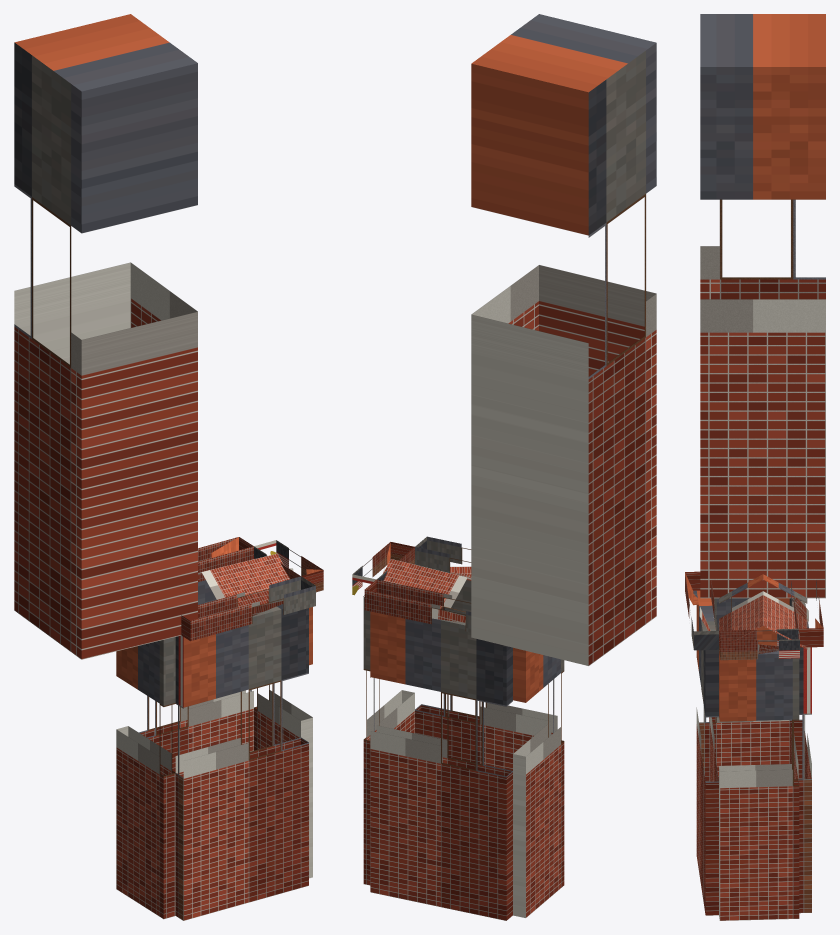
3 renders of one model, left to right at view 1: azimuth 30°, elevation 25°; view 2: azimuth 150°, elevation 25°; view 3: azimuth 270°, elevation 25°, orthographic. The views are drawn at different scales.
Parts seen in each view (by area): view 1: 1106964393__chimney_0_xb, 1106964393__wall_1_xb, 1106964393__wall_2_xb, 1106964393__wall_3_xb, 1106964393__cornice_1, 1106964393__wall_0_xb, 1106964393_roof_-1_xb, 1106964393__cornice_3, 1106964393__cornice_0; view 2: 1106964393__chimney_0_xb, 1106964393__wall_3_xb, 1106964393__wall_2_xb, 1106964393__wall_1_xb, 1106964393__wall_0_xb, 1106964393__cornice_3, 1106964393_roof_1_xb, 1106964393__cornice_1, 1106964393__cornice_0; view 3: 1106964393__chimney_0_xb, 1106964393__wall_0_xb, 1106964393__wall_1_xb, 1106964393__wall_2_xb, 1106964393__wall_3_xb, 1106964393__cornice_0, 1106964393_roof_-1_xb, 1106964393_roof_1_xb, 1106964393__cornice_1, 1106964393__cornice_3.
Part boxes in pixels (x1=…): 1106964393__chimney_0_xb: x1=14, y1=14, x2=197, y2=659; 1106964393__wall_1_xb: x1=175, y1=604, x2=308, y2=920; 1106964393__wall_2_xb: x1=116, y1=637, x2=175, y2=919; 1106964393__wall_3_xb: x1=139, y1=580, x2=253, y2=772; 1106964393__cornice_1: x1=181, y1=576, x2=315, y2=641; 1106964393__wall_0_xb: x1=254, y1=607, x2=312, y2=878; 1106964393_roof_-1_xb: x1=201, y1=553, x2=289, y2=607; 1106964393__cornice_3: x1=198, y1=537, x2=253, y2=581; 1106964393__cornice_0: x1=254, y1=540, x2=323, y2=592; 1106964393__chimney_0_xb: x1=471, y1=14, x2=656, y2=665; 1106964393__wall_3_xb: x1=370, y1=611, x2=512, y2=920; 1106964393__wall_2_xb: x1=513, y1=647, x2=564, y2=917; 1106964393__wall_1_xb: x1=415, y1=572, x2=557, y2=770; 1106964393__wall_0_xb: x1=363, y1=596, x2=414, y2=885; 1106964393__cornice_3: x1=364, y1=579, x2=471, y2=632; 1106964393_roof_1_xb: x1=383, y1=559, x2=467, y2=612; 1106964393__cornice_1: x1=415, y1=536, x2=471, y2=578; 1106964393__cornice_0: x1=352, y1=542, x2=414, y2=596; 1106964393__chimney_0_xb: x1=700, y1=14, x2=825, y2=598; 1106964393__wall_0_xb: x1=719, y1=651, x2=799, y2=920; 1106964393__wall_1_xb: x1=696, y1=590, x2=718, y2=915; 1106964393__wall_2_xb: x1=709, y1=598, x2=789, y2=780; 1106964393__wall_3_xb: x1=789, y1=598, x2=811, y2=913; 1106964393__cornice_0: x1=719, y1=628, x2=799, y2=660; 1106964393_roof_-1_xb: x1=719, y1=574, x2=763, y2=640; 1106964393_roof_1_xb: x1=763, y1=574, x2=807, y2=649; 1106964393__cornice_1: x1=685, y1=571, x2=718, y2=650; 1106964393__cornice_3: x1=791, y1=580, x2=823, y2=647.
Size of the model in its own units: 0.3257 by 1.05 by 0.1683.
Materials: 1 (1 with a texture image).
